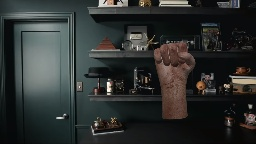Pugno: (151, 41, 197, 85)
